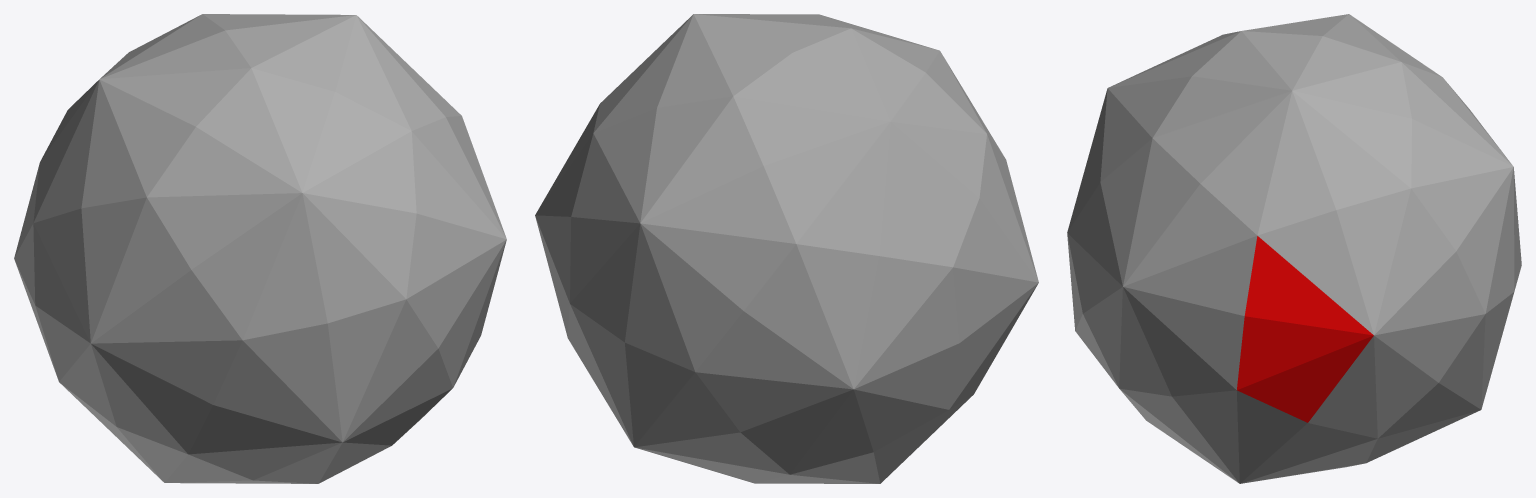
The model's file is DisdyakisTriacontahedron1.glb.
The picture shows the model from 3 angles, left to right: view 1: azimuth 30°, elevation 25°; view 2: azimuth 150°, elevation 25°; view 3: azimuth 270°, elevation 25°; orthographic projection. The views are drawn at different scales.
Size of the model in its own units: 7.8 by 7.51 by 7.61.
